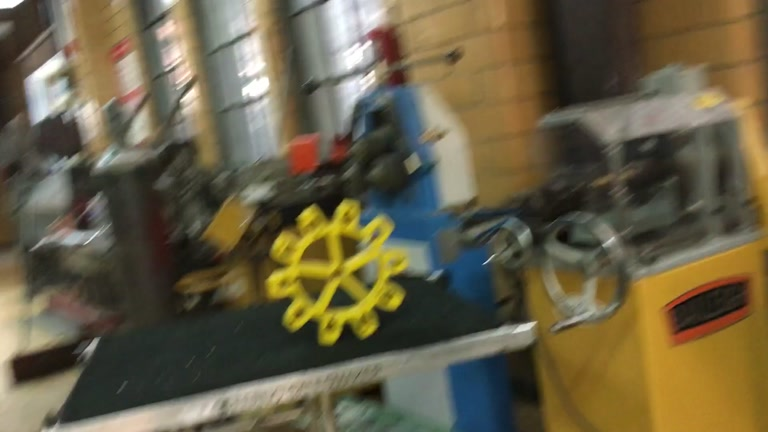gear: (263, 194, 407, 347)
